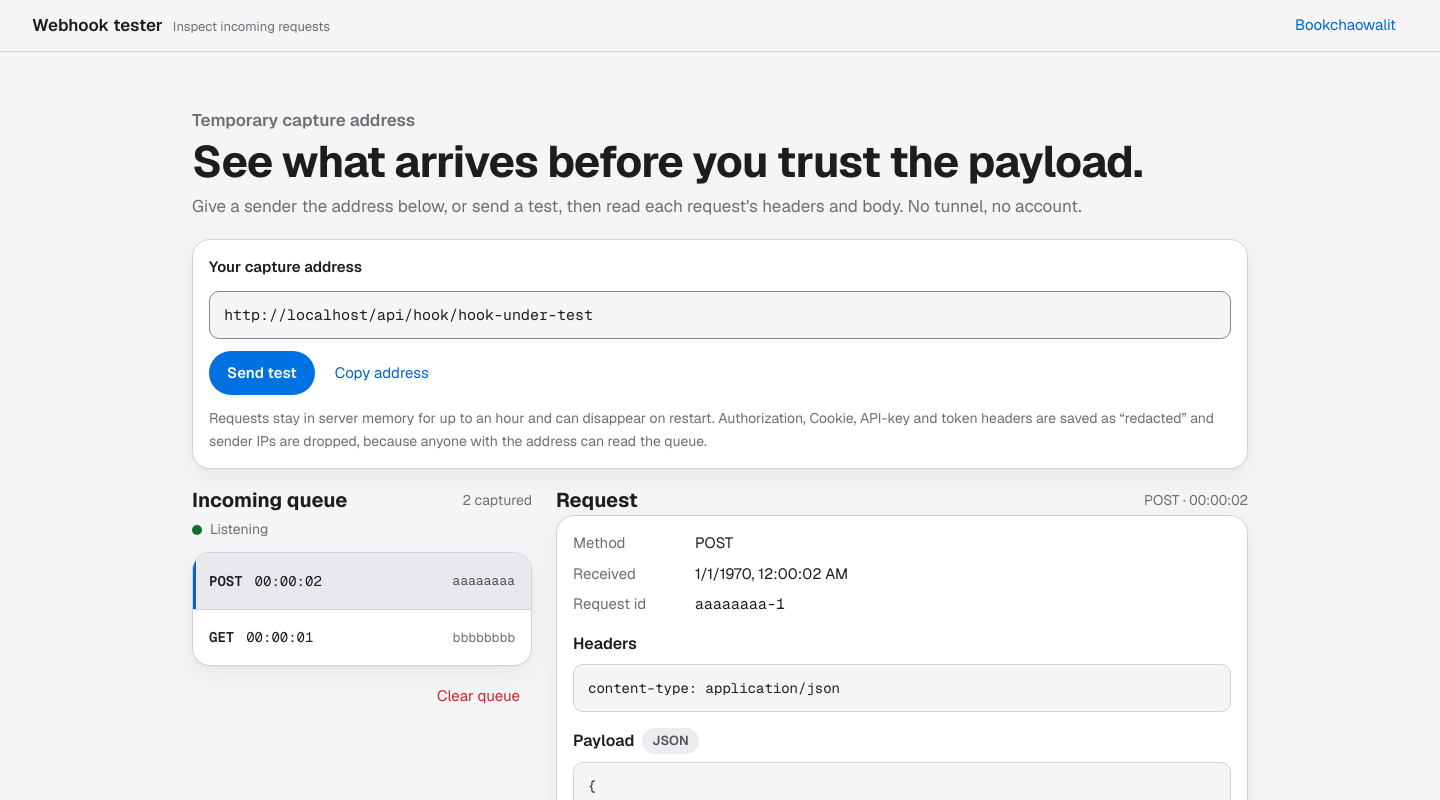
Scenario: capture desk › selects another request and marks a truncated text body
What coordinates should you click on to do the following:
click the button with class "wh-req" showing "GET 00:00:01 bbbbbbbb"
I would click on:
 (280, 637)
Its box is [193, 609, 531, 665].
(page scrolled)
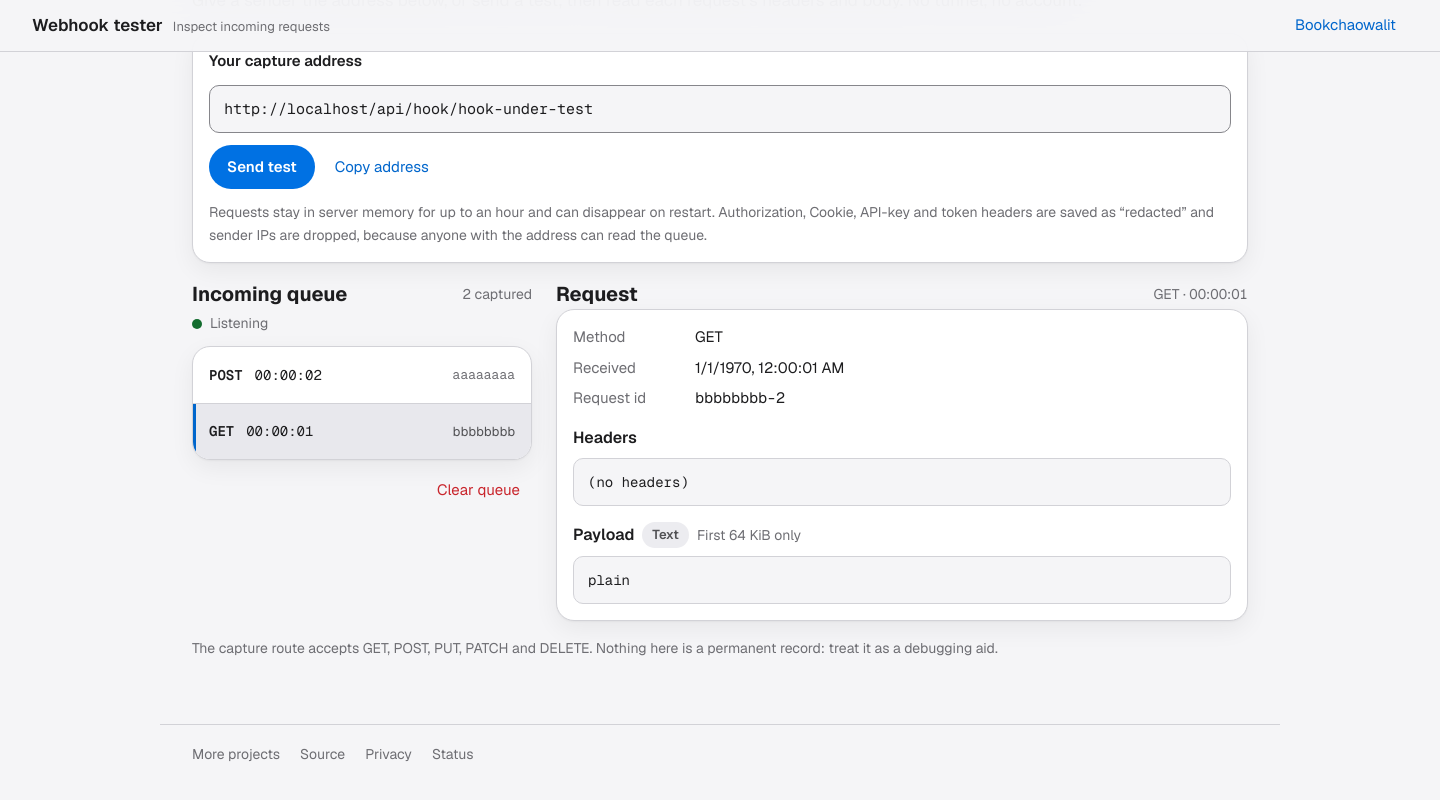
Expected: the element with class "wh-sheet" shows "Text", [652, 526, 679, 543]
Expected: the element with class "wh-sheet" shows "First 64 KiB only", [697, 526, 801, 544]
Expected: the element with class "wh-sheet" shows "(no headers)", [588, 473, 689, 491]
